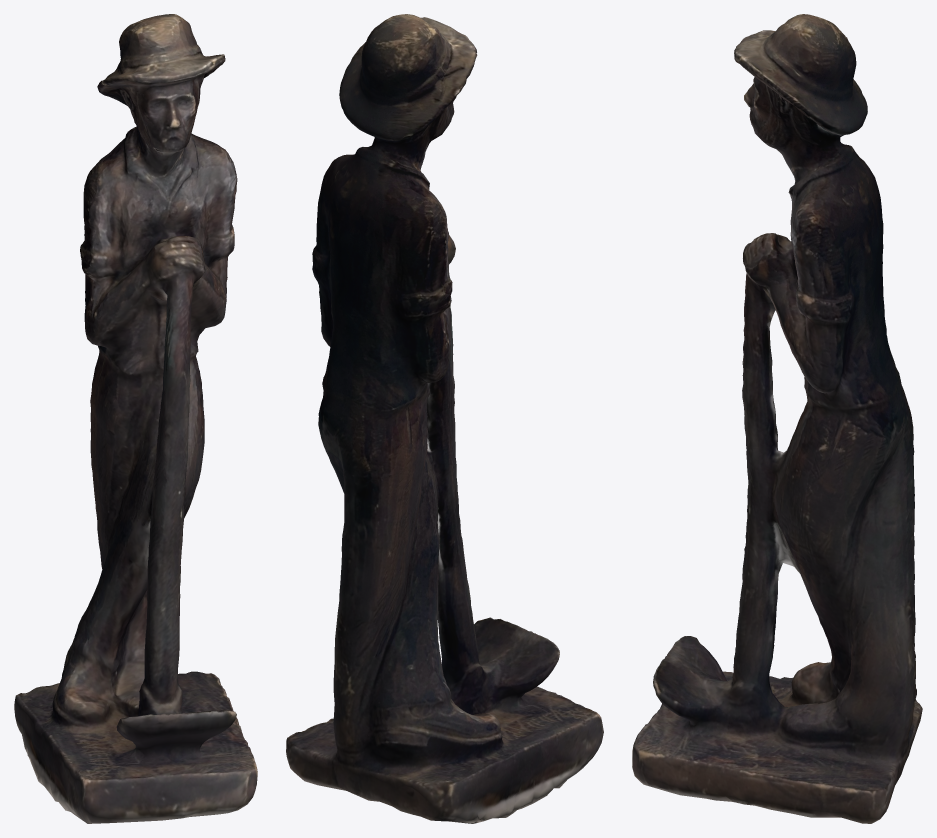
3 renders of one model, left to right at view 1: azimuth 30°, elevation 25°; view 2: azimuth 150°, elevation 25°; view 3: azimuth 270°, elevation 25°, orthographic. The views are drawn at different scales.
Visible parts, largest first — view 1: 3DModel; view 2: 3DModel; view 3: 3DModel.
Boxes of the visible parts, x1,y1,x2,y2 form: 3DModel: (14,14,257,823); 3DModel: (286,14,603,823); 3DModel: (632,14,922,823).
Bounding box in the file's own units: 0.1289 × 0.4141 × 0.1405.
Materials: 1 (1 with a texture image).
